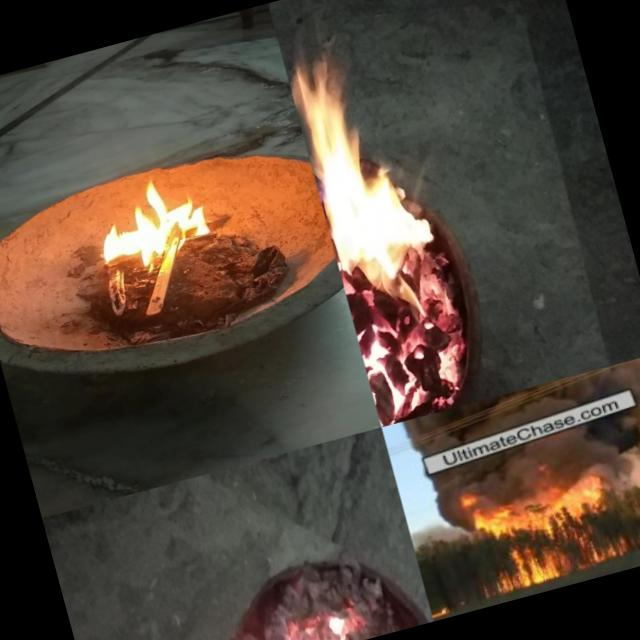fire: (280, 21, 481, 426), (58, 156, 240, 305), (464, 474, 624, 598), (213, 586, 390, 640), (430, 601, 454, 620)
smoke: (420, 434, 604, 532), (570, 398, 640, 505)
